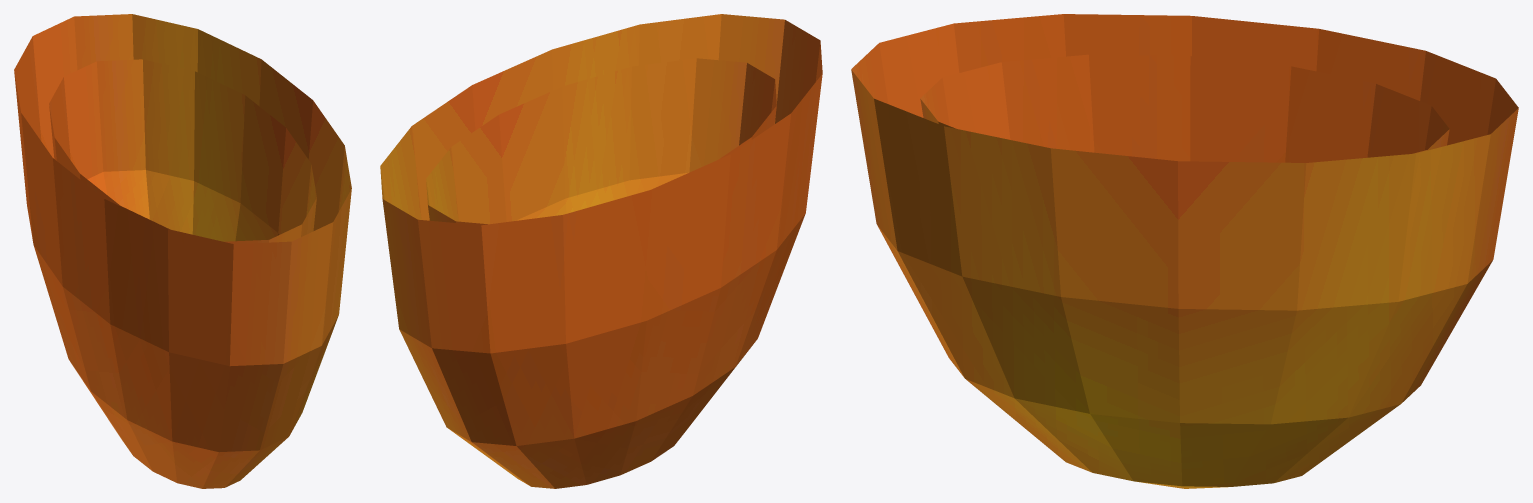
Rendered from tx_knight_guangzhan_fire_01.obj.
The picture shows the model from 3 angles, left to right: view 1: azimuth 30°, elevation 25°; view 2: azimuth 150°, elevation 25°; view 3: azimuth 270°, elevation 25°; orthographic projection. The views are drawn at different scales.
Visible parts, largest first — view 1: Sphere03, Sphere02; view 2: Sphere03, Sphere02; view 3: Sphere03, Sphere02.
Part boxes in pixels (left/top/right/bottom): Sphere03: left=14, top=14, right=351, bottom=488; Sphere02: left=49, top=59, right=316, bottom=243; Sphere03: left=380, top=14, right=822, bottom=488; Sphere02: left=426, top=58, right=776, bottom=225; Sphere03: left=851, top=14, right=1518, bottom=488; Sphere02: left=920, top=54, right=1449, bottom=162.
Size of the model in its own units: 99 by 124 by 187.
Materials: 1 (1 with a texture image).
